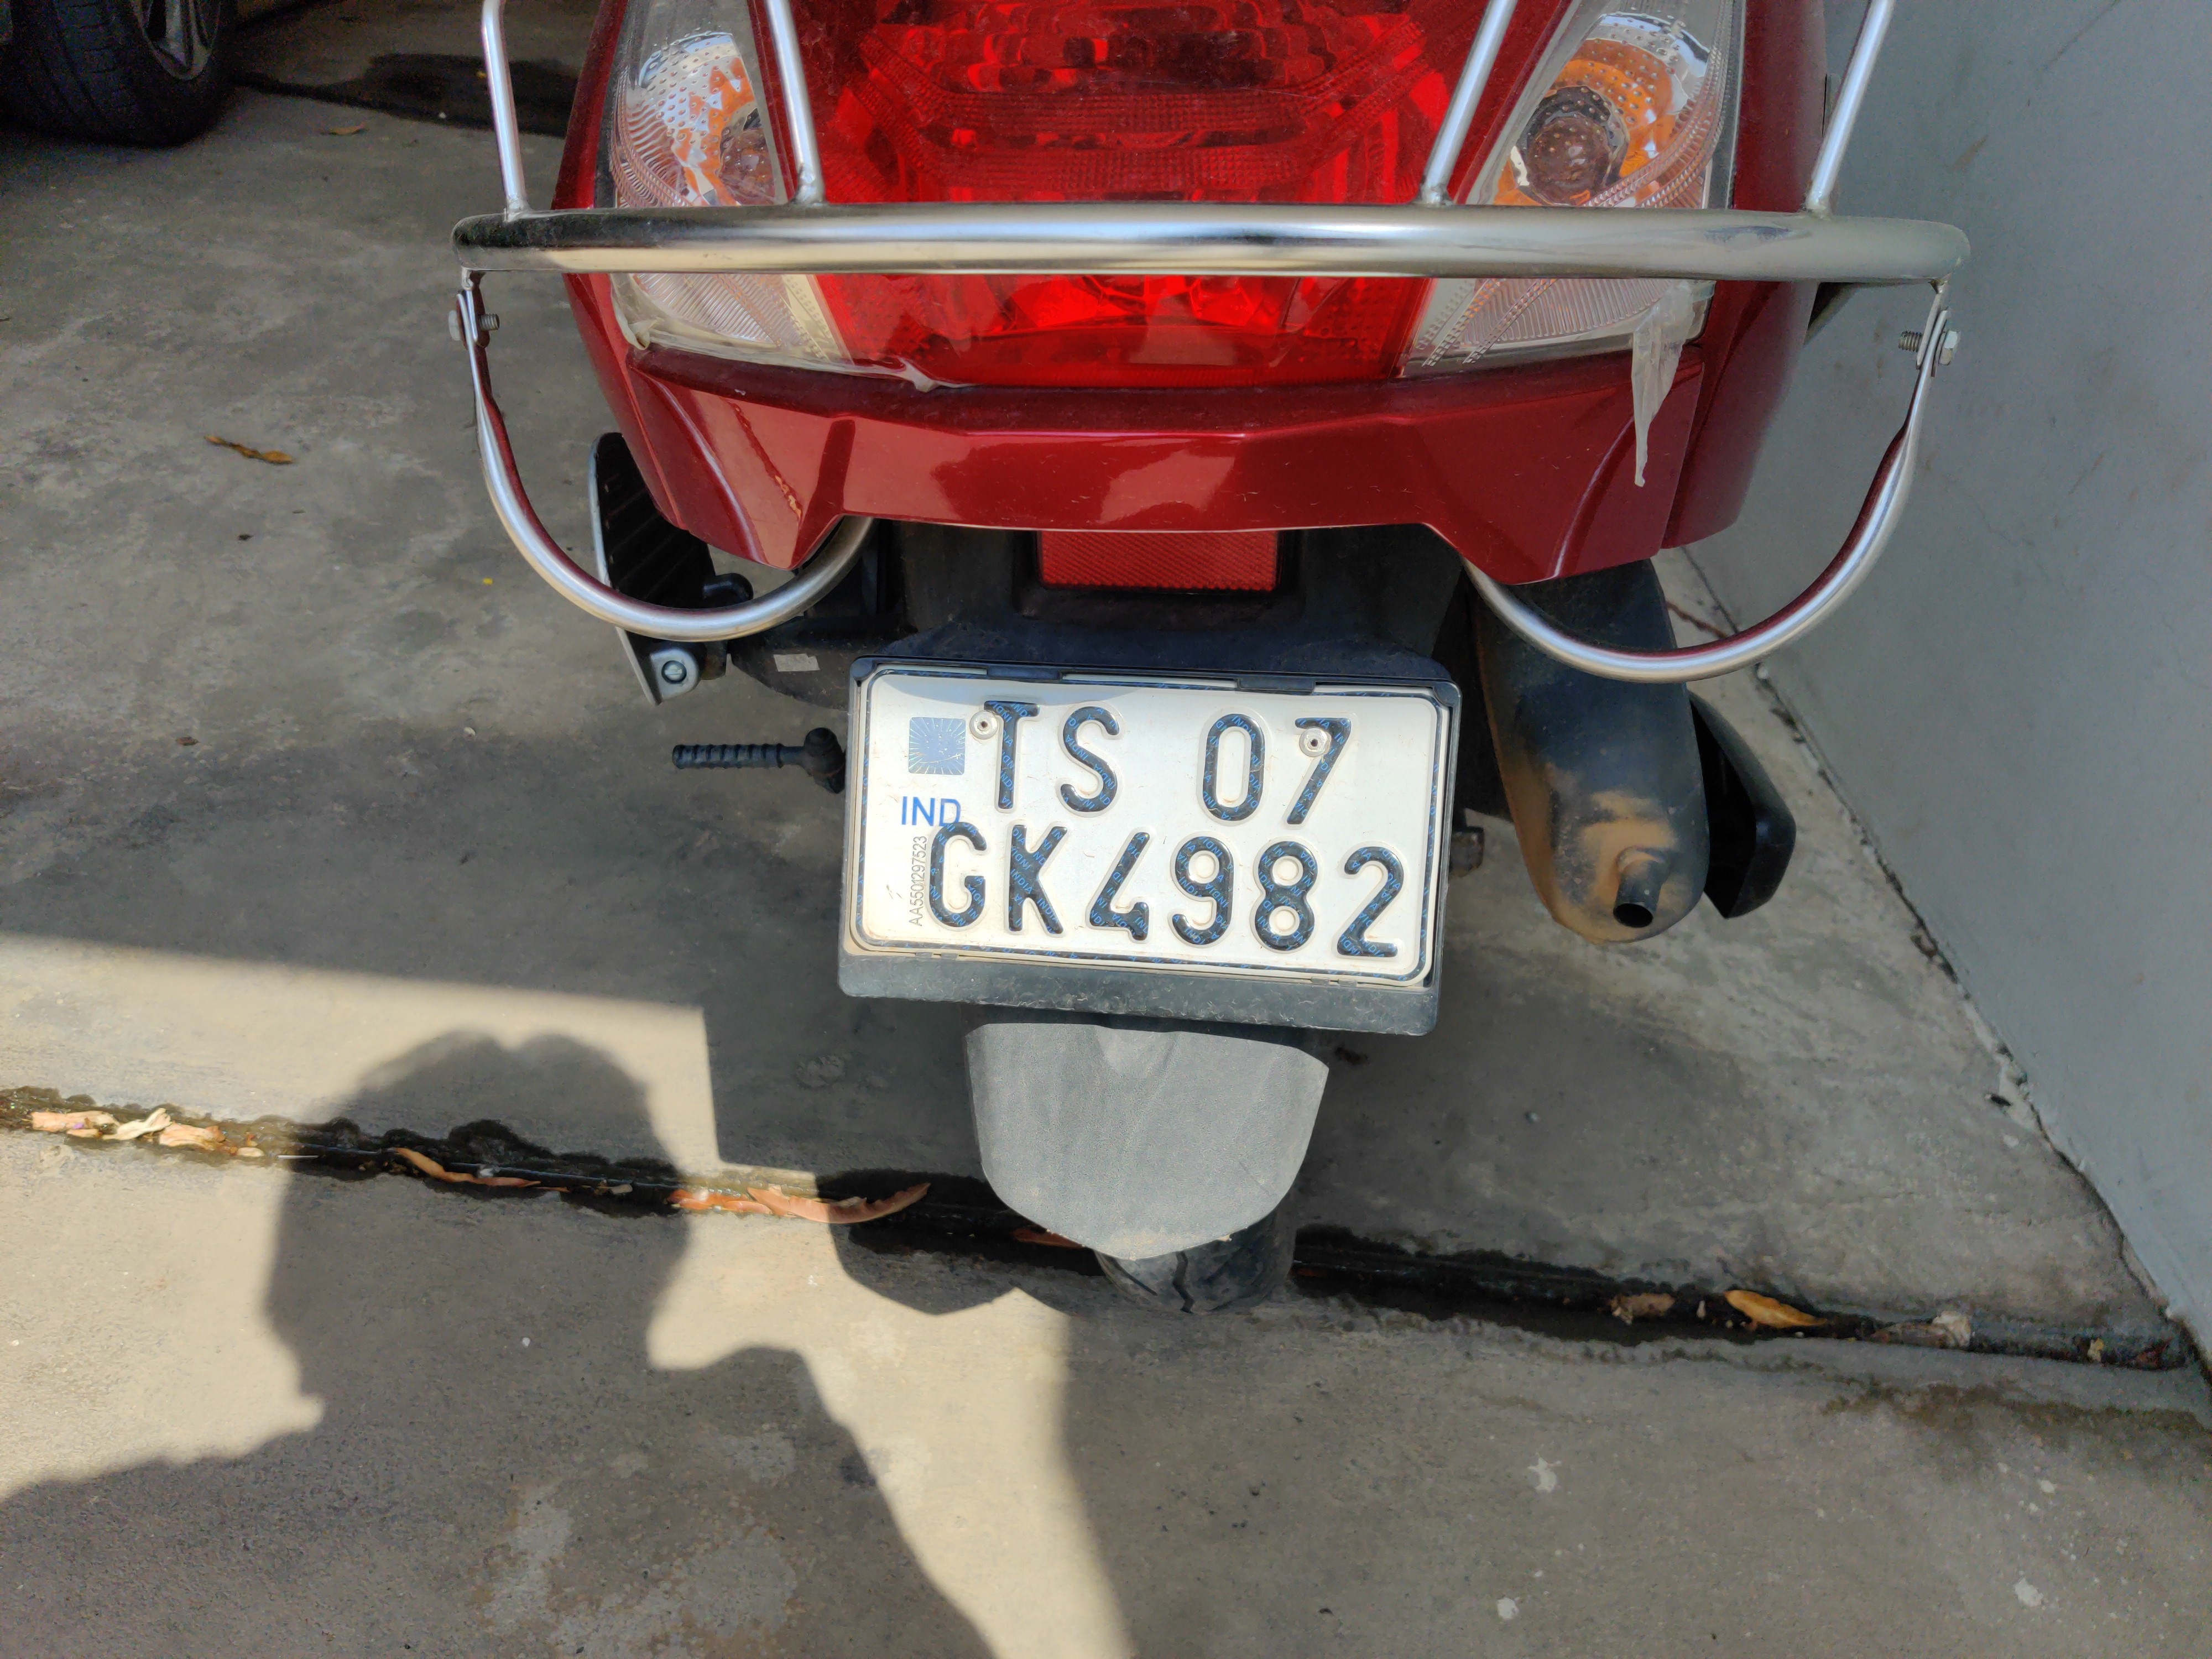plate: (794, 622, 1496, 1087)
